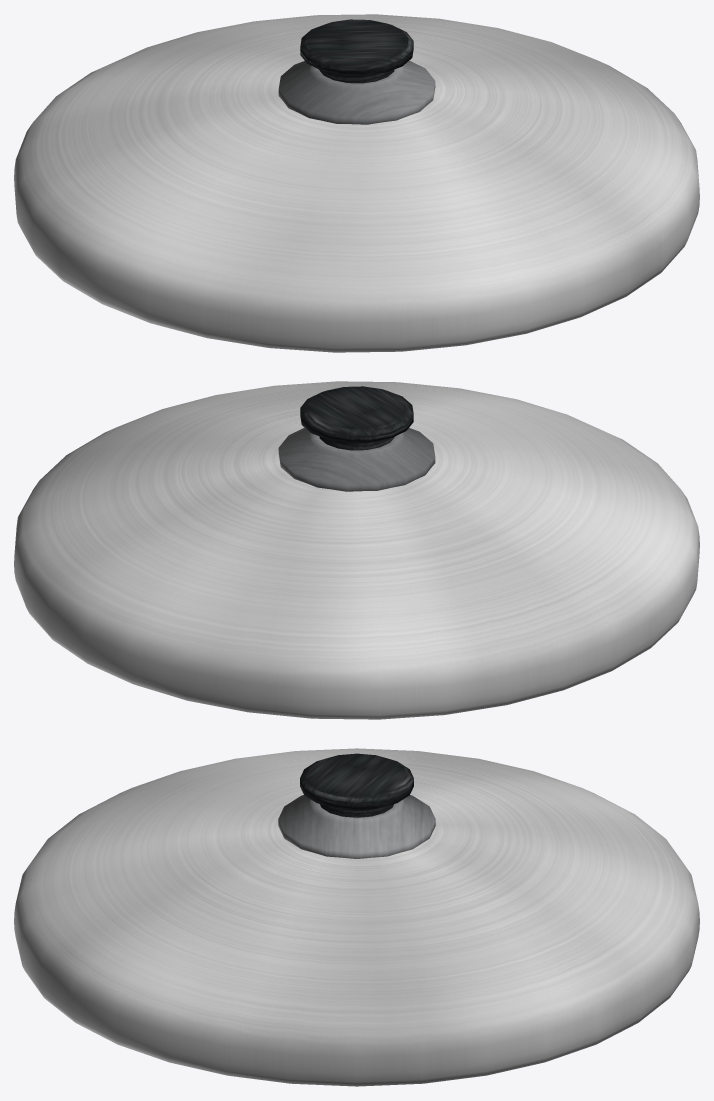
File: lid.fbx
The picture shows the model from 3 angles, top to bottom: view 1: azimuth 30°, elevation 25°; view 2: azimuth 150°, elevation 25°; view 3: azimuth 270°, elevation 25°; orthographic projection.
Parts seen in each view (by area): view 1: Lid (exterior), Bottom of Handle, Top of Handle; view 2: Lid (exterior), Bottom of Handle, Top of Handle; view 3: Lid (exterior), Bottom of Handle, Top of Handle.
Part boxes in pixels (x1,y1,x2,y2): Lid (exterior): [14, 14, 699, 352]; Bottom of Handle: [278, 60, 435, 124]; Top of Handle: [300, 19, 413, 83]; Lid (exterior): [14, 381, 699, 719]; Bottom of Handle: [278, 427, 435, 491]; Top of Handle: [300, 386, 413, 450]; Lid (exterior): [14, 748, 699, 1086]; Bottom of Handle: [278, 795, 435, 858]; Top of Handle: [300, 753, 413, 817].
Bounding box in the file's own units: 0.9998 × 0.2743 × 0.9998.
